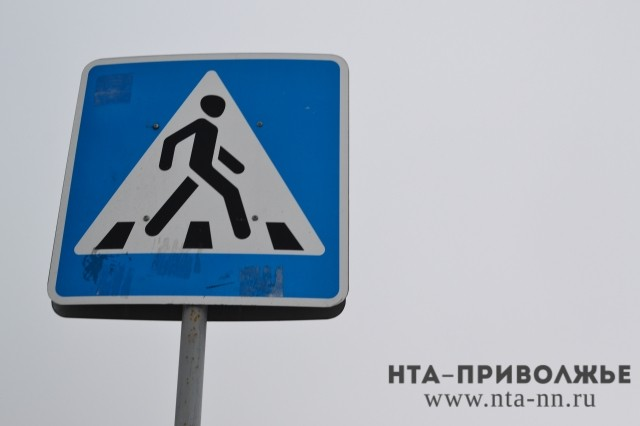yaya_gecidi_levha: (45, 50, 346, 314)
